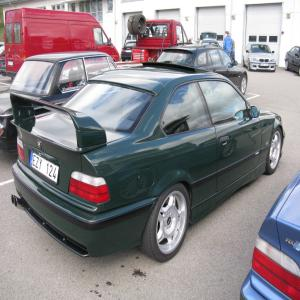Vehicle-registration-plate: (38, 155, 58, 191)
